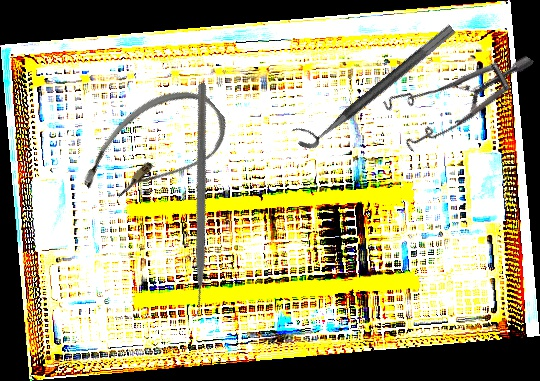Cannula: (68, 68, 240, 232)
Chopper: (81, 82, 306, 324)
Fixation Ring: (289, 11, 457, 155)
Speculum: (370, 3, 534, 179)
